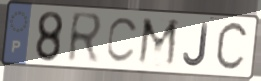8: (35, 9, 65, 64)
C: (213, 19, 251, 75), (104, 16, 141, 66)
J: (181, 22, 211, 69)
M: (135, 16, 181, 70)
R: (65, 10, 106, 67)
